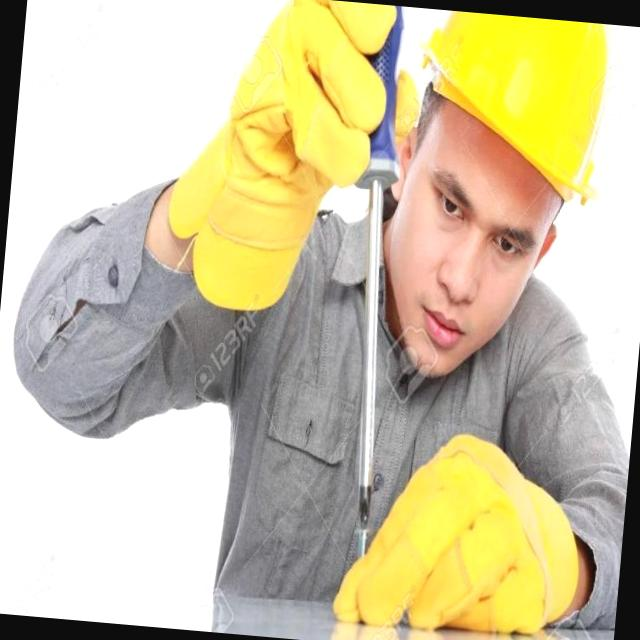screwdriver: (355, 5, 403, 556)
